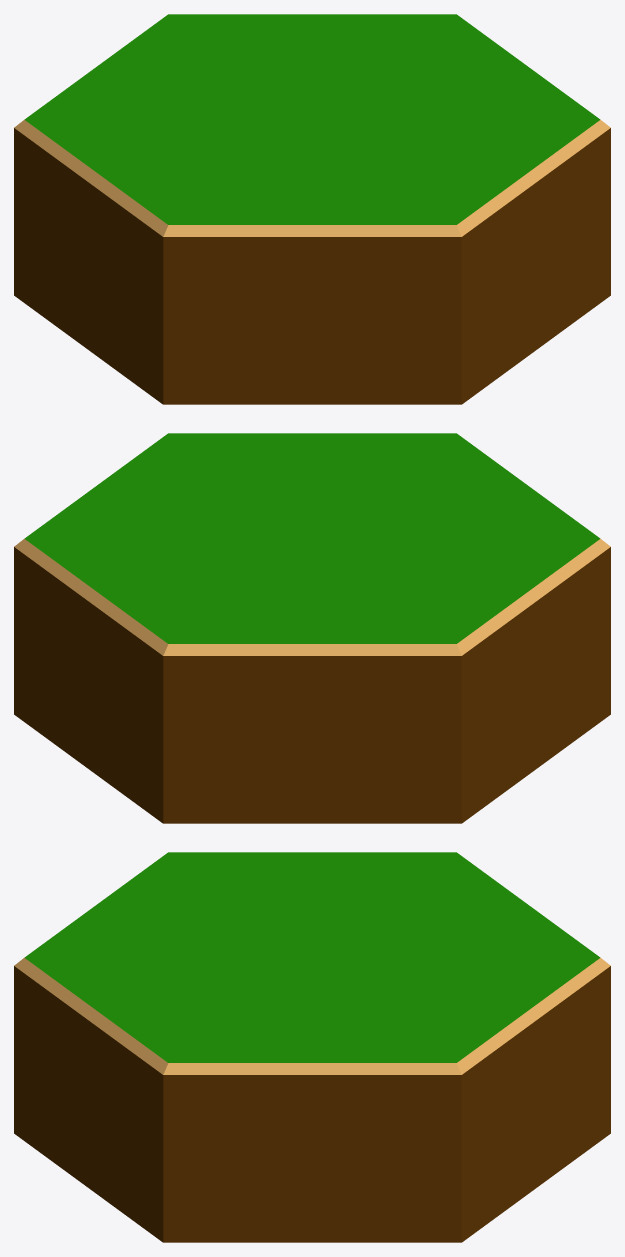
The model's file is altigen_blok.fbx.
The picture shows the model from 3 angles, top to bottom: view 1: azimuth 30°, elevation 25°; view 2: azimuth 150°, elevation 25°; view 3: azimuth 270°, elevation 25°; orthographic projection.
Visible parts, largest first — view 1: ground; view 2: ground; view 3: ground.
Part boxes in pixels (box(x1,y1,x2,y2)): ground: box(14, 14, 610, 404); ground: box(14, 433, 610, 823); ground: box(14, 852, 610, 1242).
Size of the model in its own units: 1.73 by 0.65 by 2.
